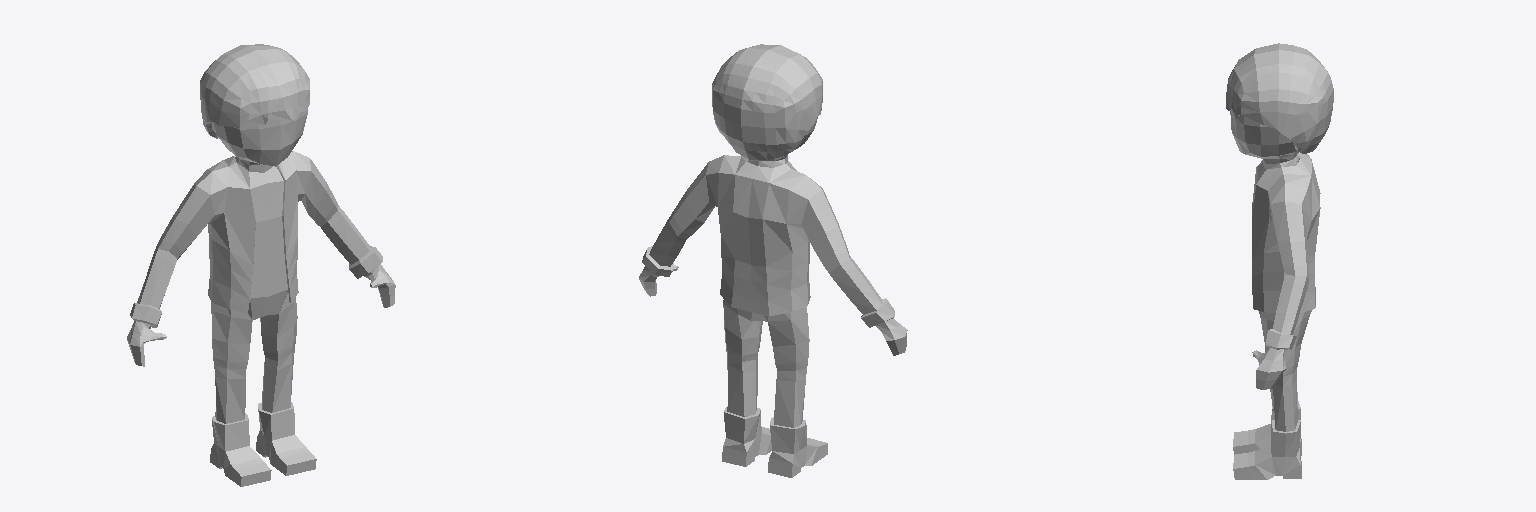
The model's file is AetherBattleToon2.obj.
3 views of the same model, side by side, from view 1: azimuth 30°, elevation 25°; view 2: azimuth 150°, elevation 25°; view 3: azimuth 270°, elevation 25° (orthographic).
Visible parts, largest first — view 1: Character_Cube; view 2: Character_Cube; view 3: Character_Cube.
Boxes of the visible parts, x1,y1,x2,y2 form: Character_Cube: [127, 44, 395, 486]; Character_Cube: [639, 44, 907, 477]; Character_Cube: [1226, 43, 1333, 479].
Bounding box in the file's own units: 1.17 × 1.75 × 0.4133.